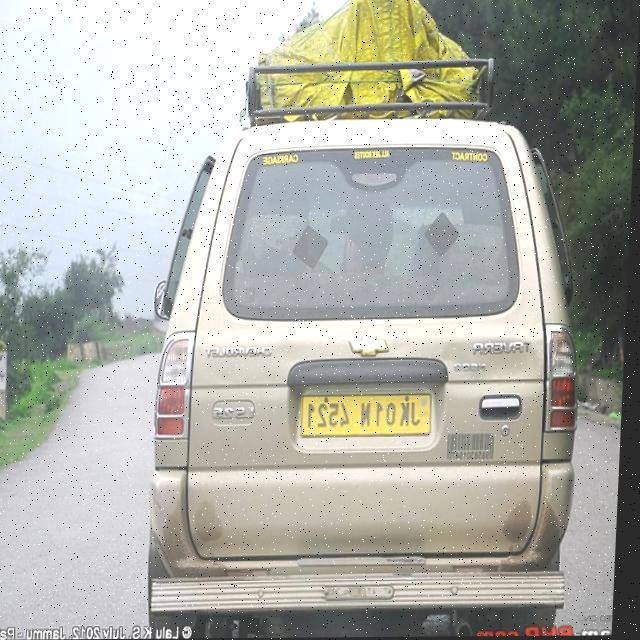plate: (299, 382, 442, 446)
